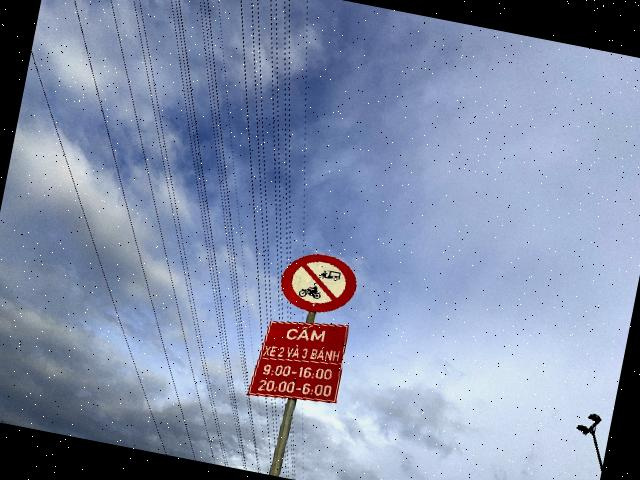cam-xe-2-banh-3-banh: (276, 246, 360, 318)
